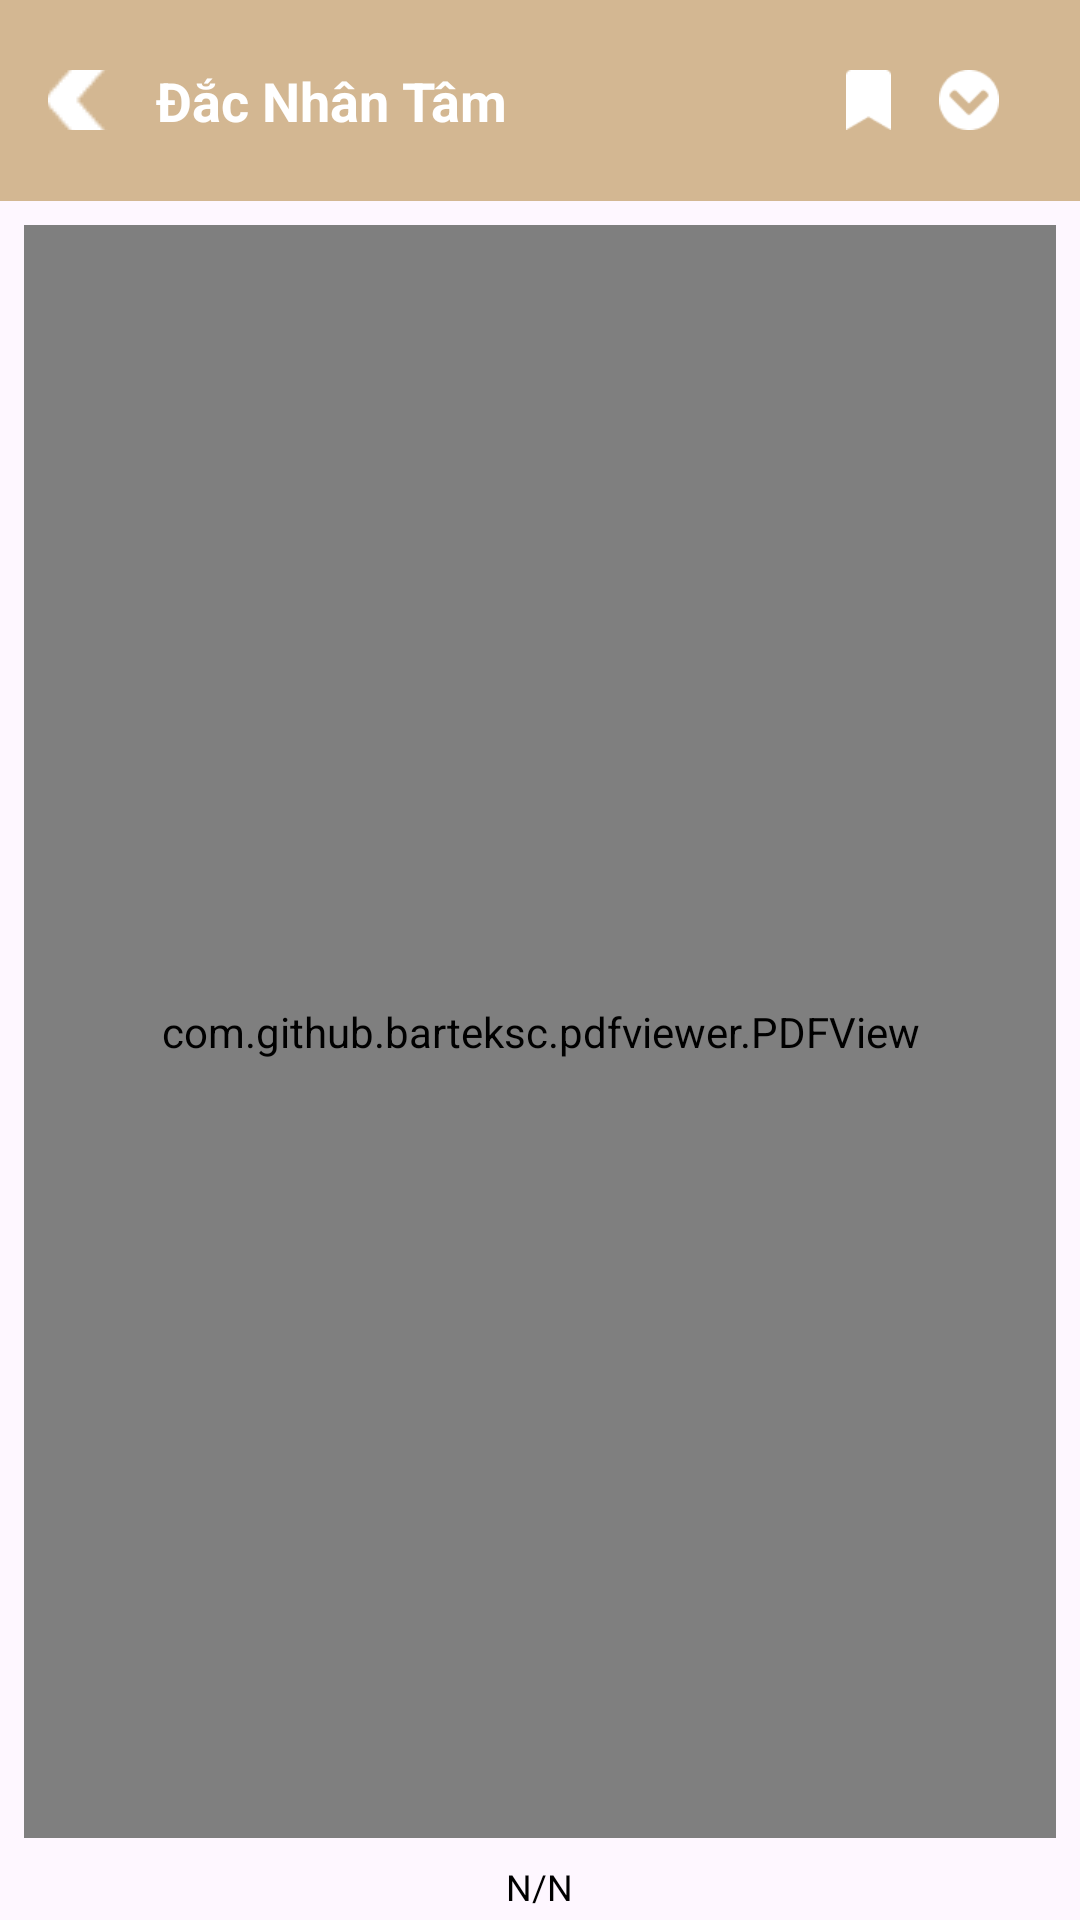

Icon click points for this 1080px×1920px phone screenshot, format [x,y]:
Lưu: [868,100]
Trở về: [76,100]
